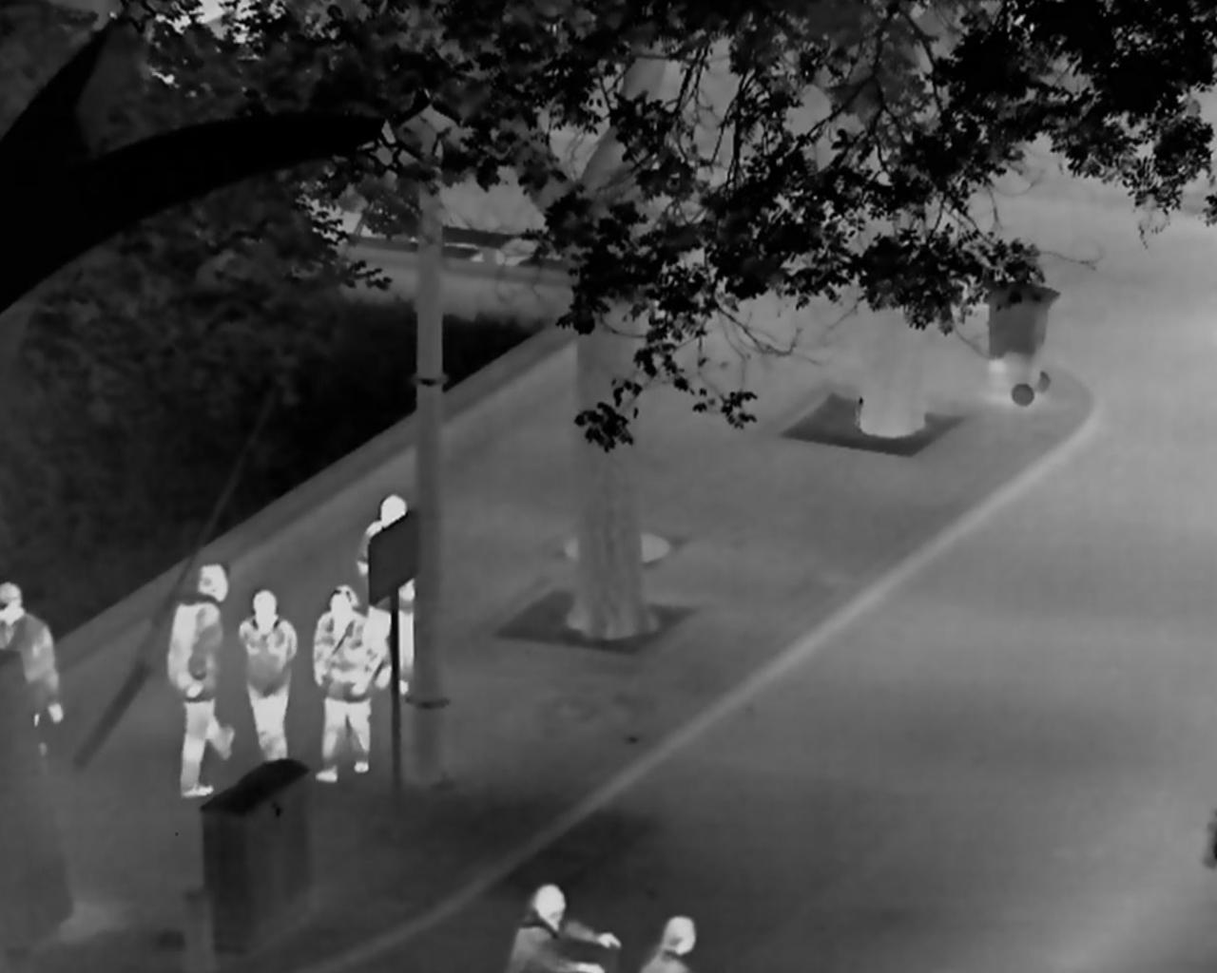person: (166, 562, 236, 801), (311, 585, 383, 783), (356, 491, 417, 695), (506, 881, 622, 973), (235, 589, 298, 758), (637, 914, 698, 973)
